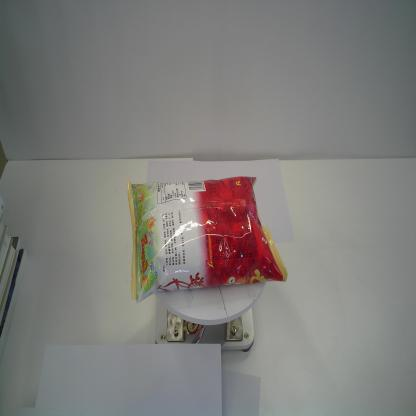Puffed Food: (126, 176, 289, 304)
